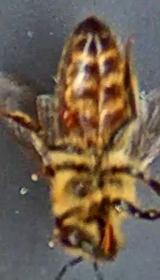varroa_mite: (56, 105, 85, 136)
